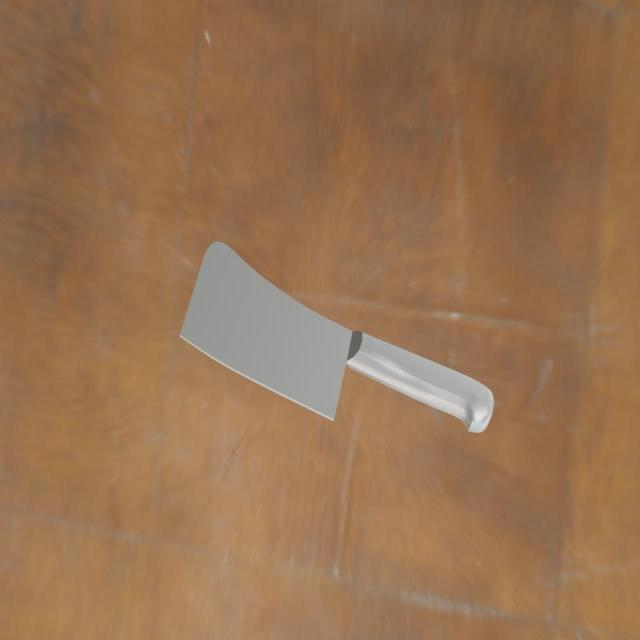knife: (347, 331, 501, 437)
